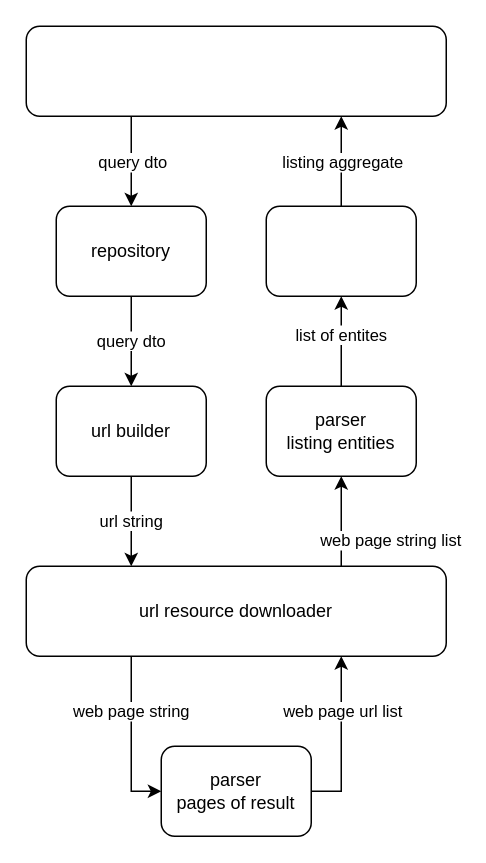
Some shapes in this 486 by 863 pixel diagram are drawn without their labels. Each missing label, with the box of its shape:
aggregate constructor: (265, 205, 416, 296)
interactor: (25, 25, 446, 116)
